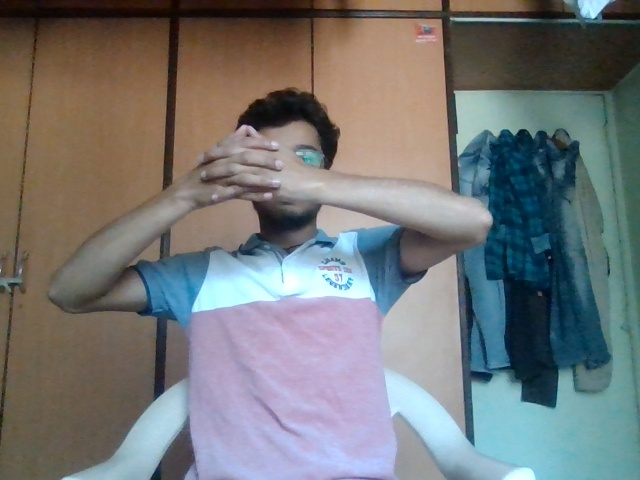good: (185, 122, 330, 222)
